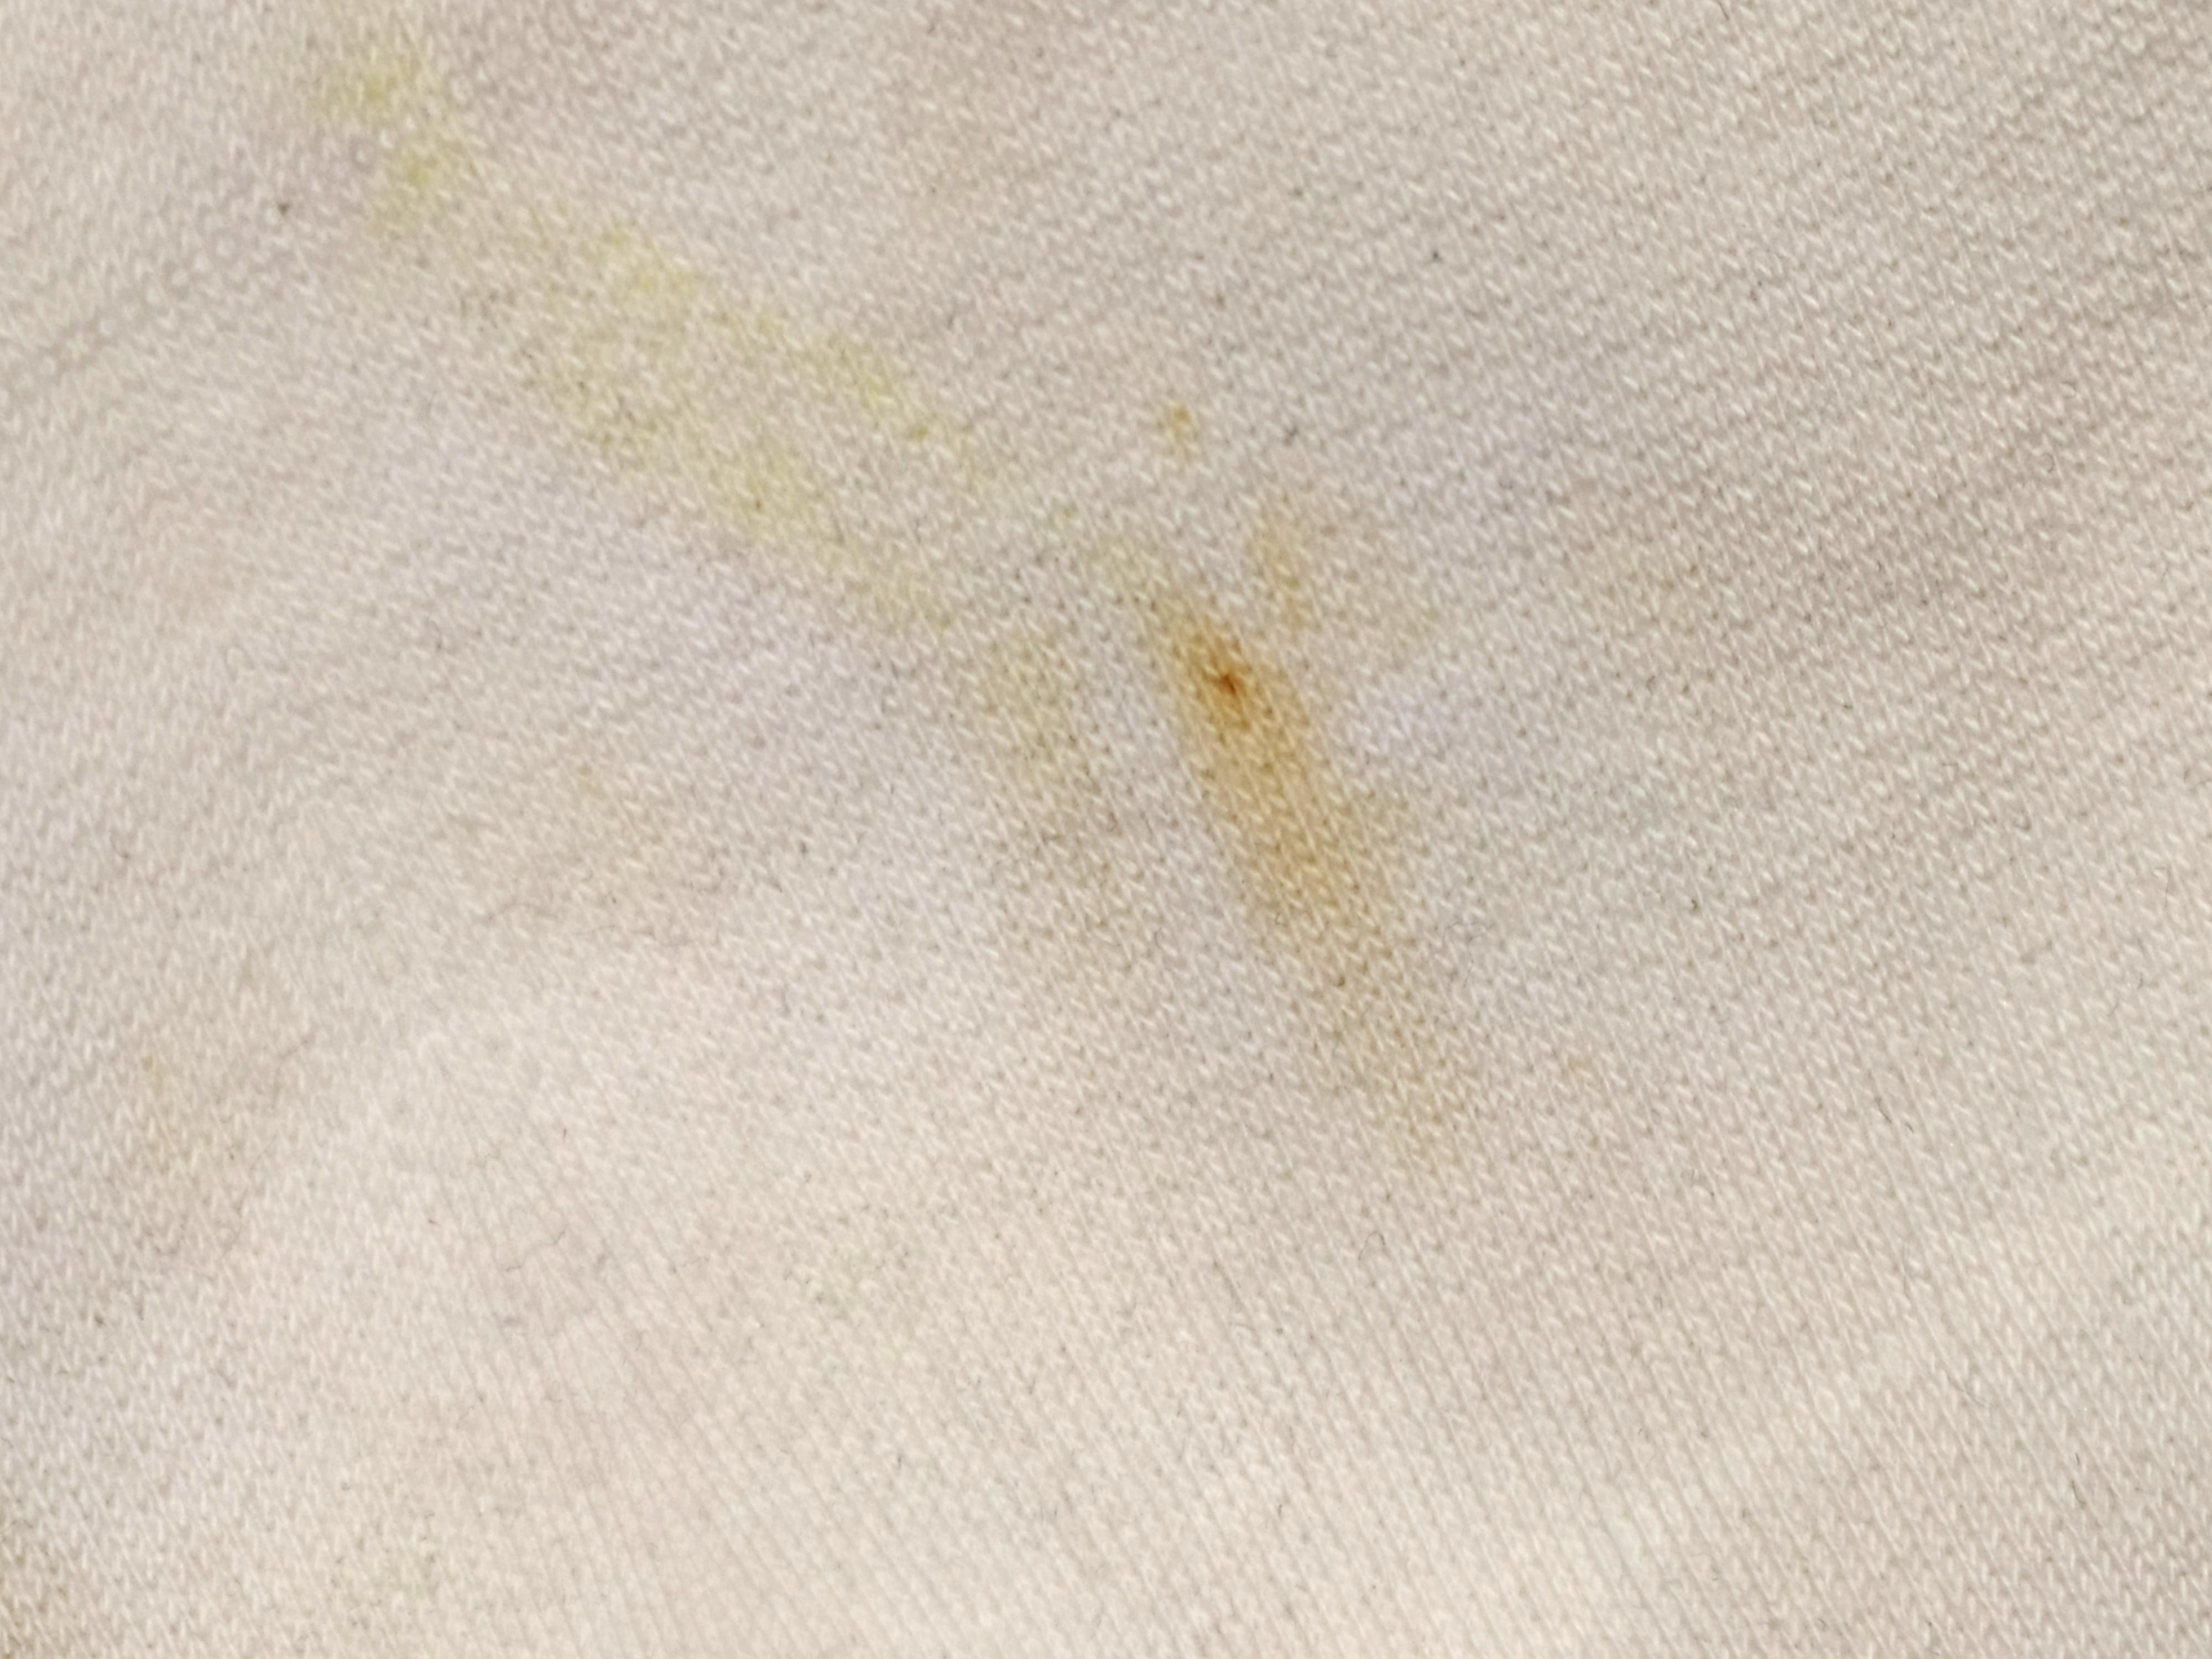stain: (1144, 549, 1381, 938)
